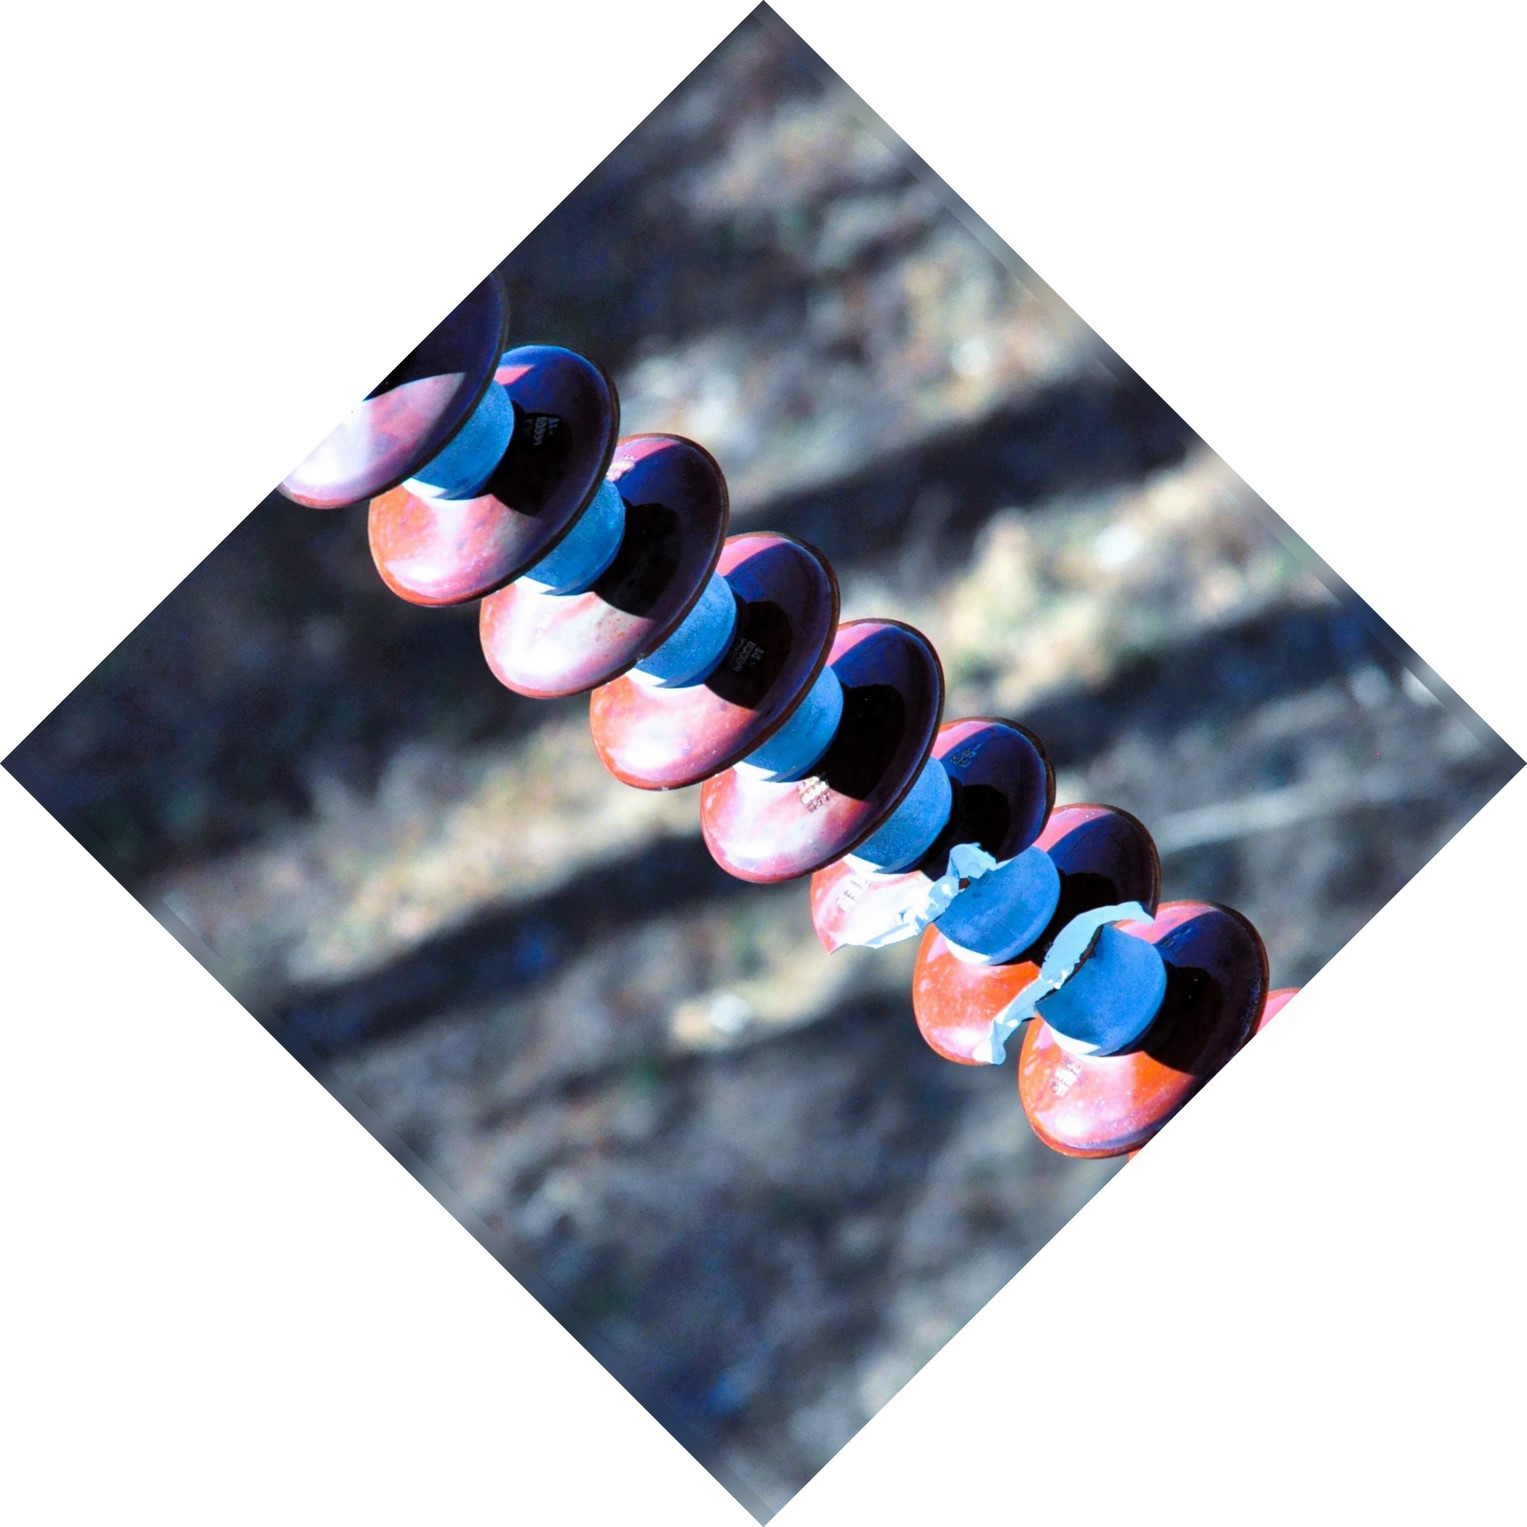insulator breakage: (807, 701, 1176, 1073)
